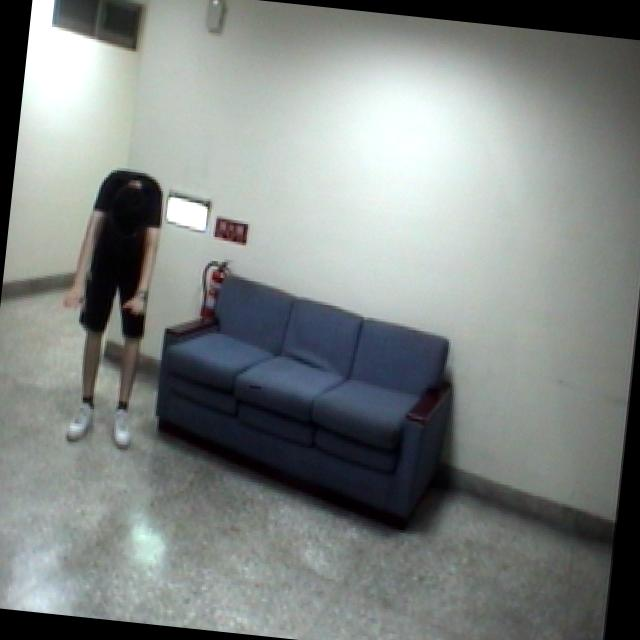bend: (39, 154, 186, 463)
